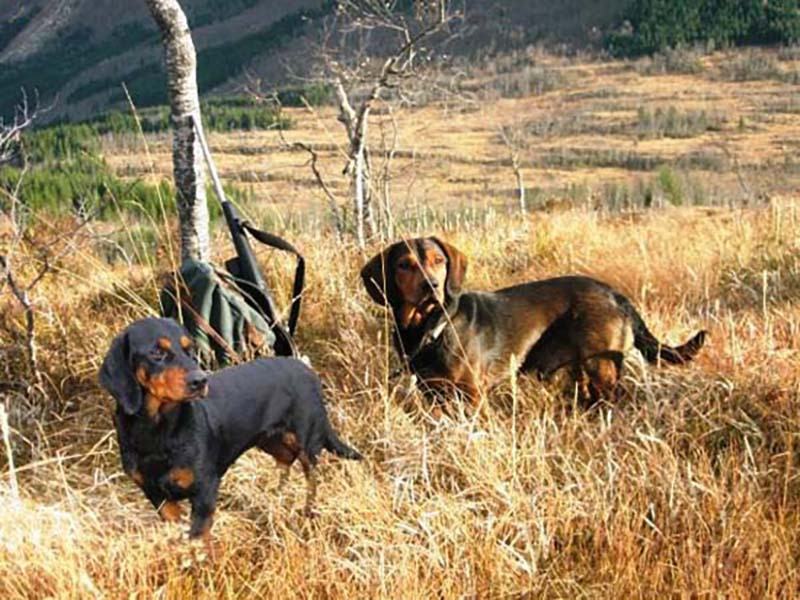cane da caccia: (363, 236, 712, 435), (100, 315, 357, 541)
